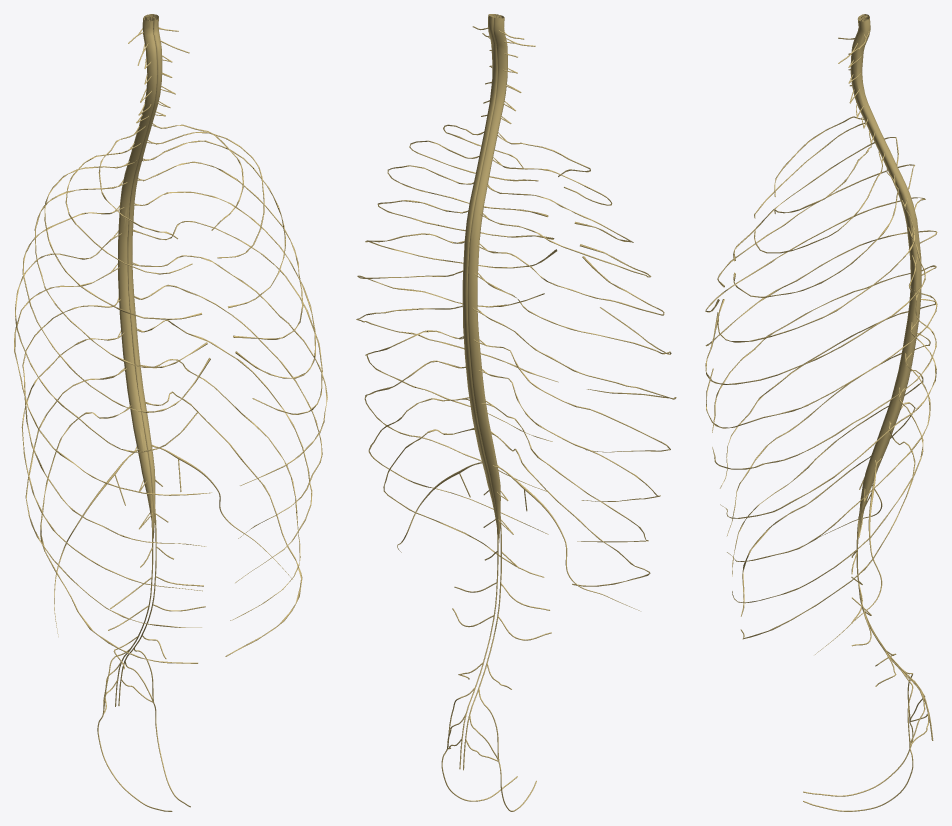
File: nervous-trunk-balanced.glb
The picture shows the model from 3 angles, left to right: view 1: azimuth 30°, elevation 25°; view 2: azimuth 150°, elevation 25°; view 3: azimuth 270°, elevation 25°; orthographic projection. The views are drawn at different scales.
Visible parts, largest first — view 1: za.white-matter-of-spinal-cord, za.intercostal-nerves-r, za.intercostal-nerves-l, za.cauda-equina; view 2: za.white-matter-of-spinal-cord, za.intercostal-nerves-l, za.intercostal-nerves-r, za.cauda-equina; view 3: za.white-matter-of-spinal-cord, za.intercostal-nerves-l, za.intercostal-nerves-r, za.cauda-equina, za.pudendal-nerve-l.
Boxes of the visible parts, box(x1,y1,x2,y2) form: za.white-matter-of-spinal-cord: box(118, 14, 162, 538); za.intercostal-nerves-r: box(14, 135, 211, 663); za.intercostal-nerves-l: box(139, 124, 327, 656); za.cauda-equina: box(106, 500, 205, 706); za.white-matter-of-spinal-cord: box(462, 14, 507, 544); za.intercostal-nerves-l: box(356, 124, 558, 577); za.intercostal-nerves-r: box(484, 141, 676, 586); za.cauda-equina: box(450, 516, 551, 770); za.white-matter-of-spinal-cord: box(850, 14, 921, 543); za.intercostal-nerves-l: box(705, 143, 937, 639); za.intercostal-nerves-r: box(705, 116, 937, 616); za.cauda-equina: box(851, 506, 933, 740); za.pudendal-nerve-l: box(803, 685, 927, 811).
Bounding box in the file's own units: 0.2744 × 0.7315 × 0.1955.
